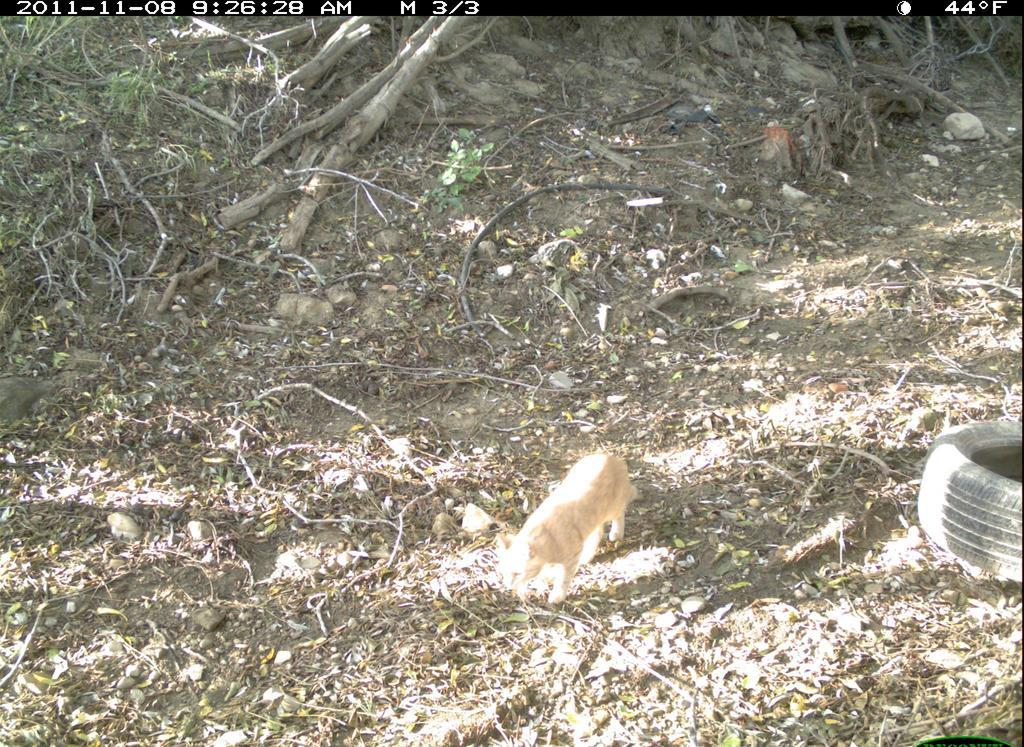cat: (480, 443, 651, 618)
